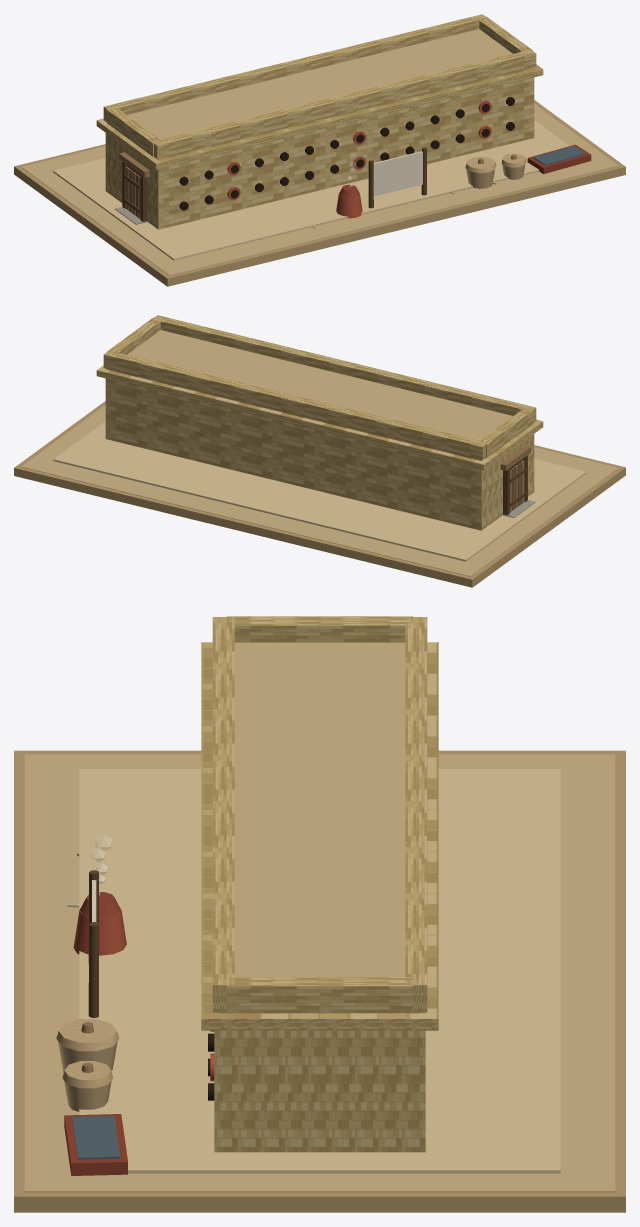
File: exp-1-built.glb
3 renders of one model, top to bottom at view 1: azimuth 30°, elevation 25°; view 2: azimuth 150°, elevation 25°; view 3: azimuth 270°, elevation 25°, orthographic. The views are drawn at different scales.
Bounding box in the file's own units: 25 × 4.93 × 14.5.
25 materials, 6 textured.
